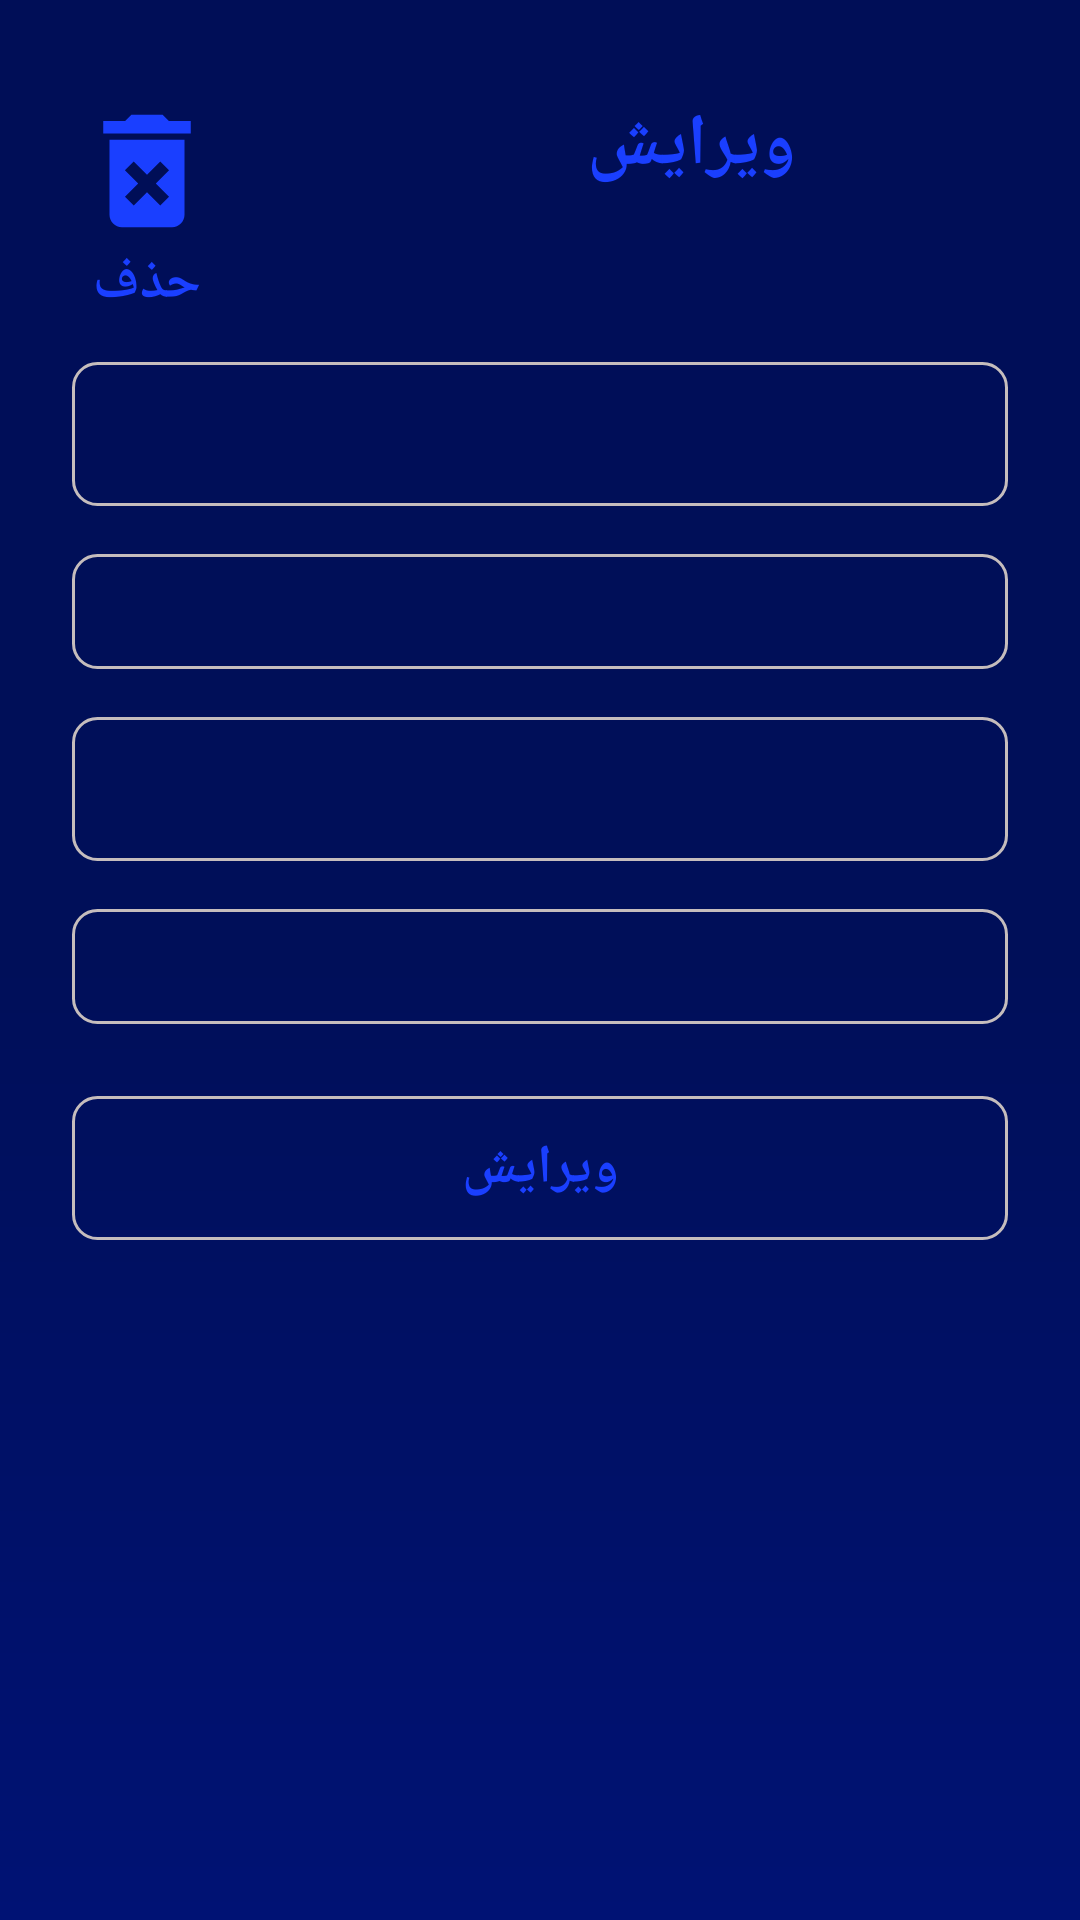

Screen size 1080 × 1920. Icon name, then its box in pixels as (x1, y1, x2, y2):
delete forever: (103, 114, 191, 228)
